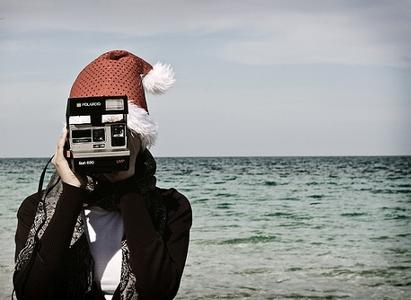person: (13, 51, 192, 300)
